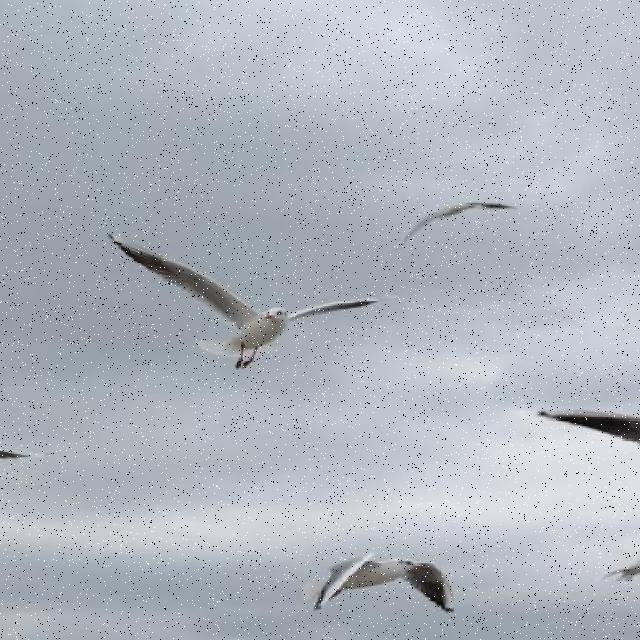bird: (110, 230, 398, 370), (300, 550, 454, 618), (400, 200, 516, 248)
